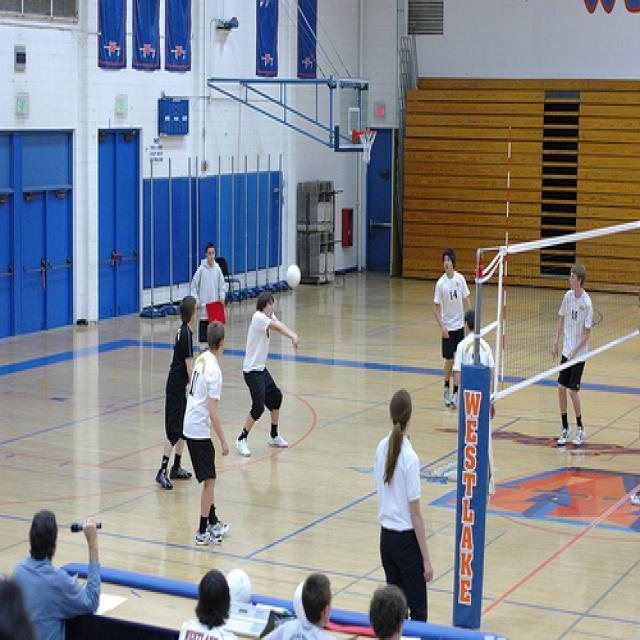volleyball: (286, 266, 300, 288)
